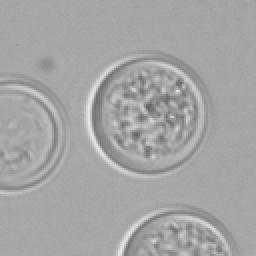picoshell: (84, 52, 208, 176), (0, 76, 68, 194), (116, 206, 234, 254)
